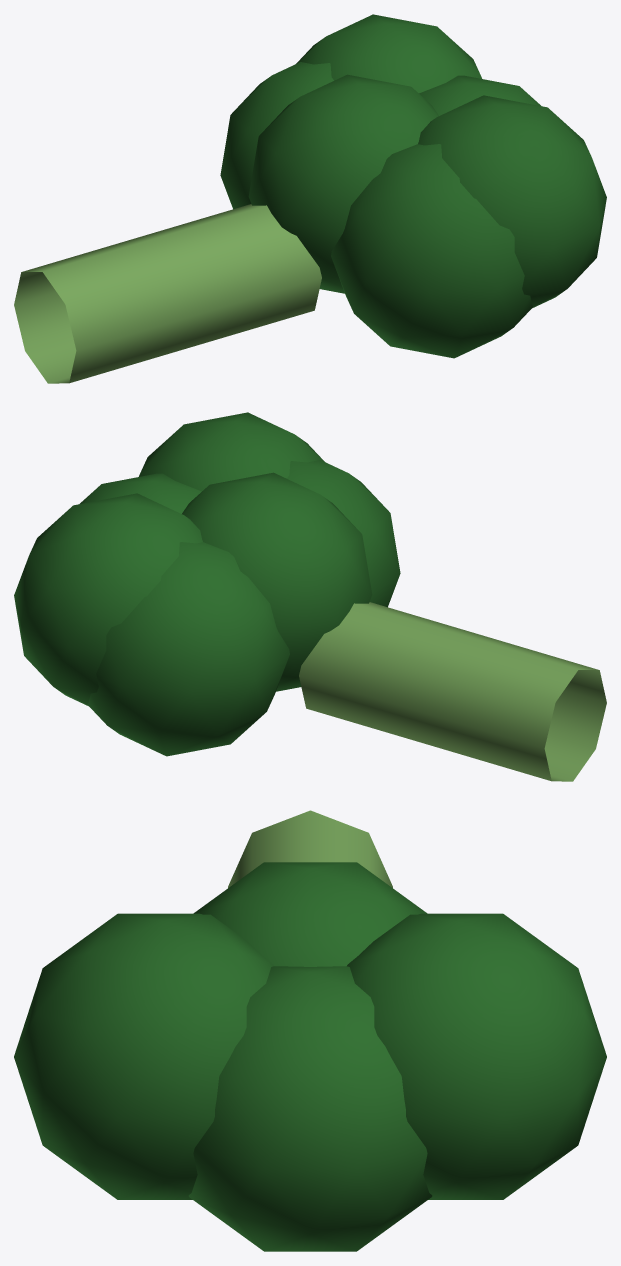
The model's file is item_veg_broccoli.glb.
3 renders of one model, top to bottom at view 1: azimuth 30°, elevation 25°; view 2: azimuth 150°, elevation 25°; view 3: azimuth 270°, elevation 25°, orthographic. The views are drawn at different scales.
Parts seen in each view (by area): view 1: item_veg_broccoli_main; view 2: item_veg_broccoli_main; view 3: item_veg_broccoli_main.
Part boxes in pixels (box(x1,y1,x2,y2)): item_veg_broccoli_main: box(14, 14, 606, 383); item_veg_broccoli_main: box(14, 412, 606, 781); item_veg_broccoli_main: box(14, 810, 606, 1251).
Size of the model in its own units: 0.2111 by 0.09 by 0.1579.
